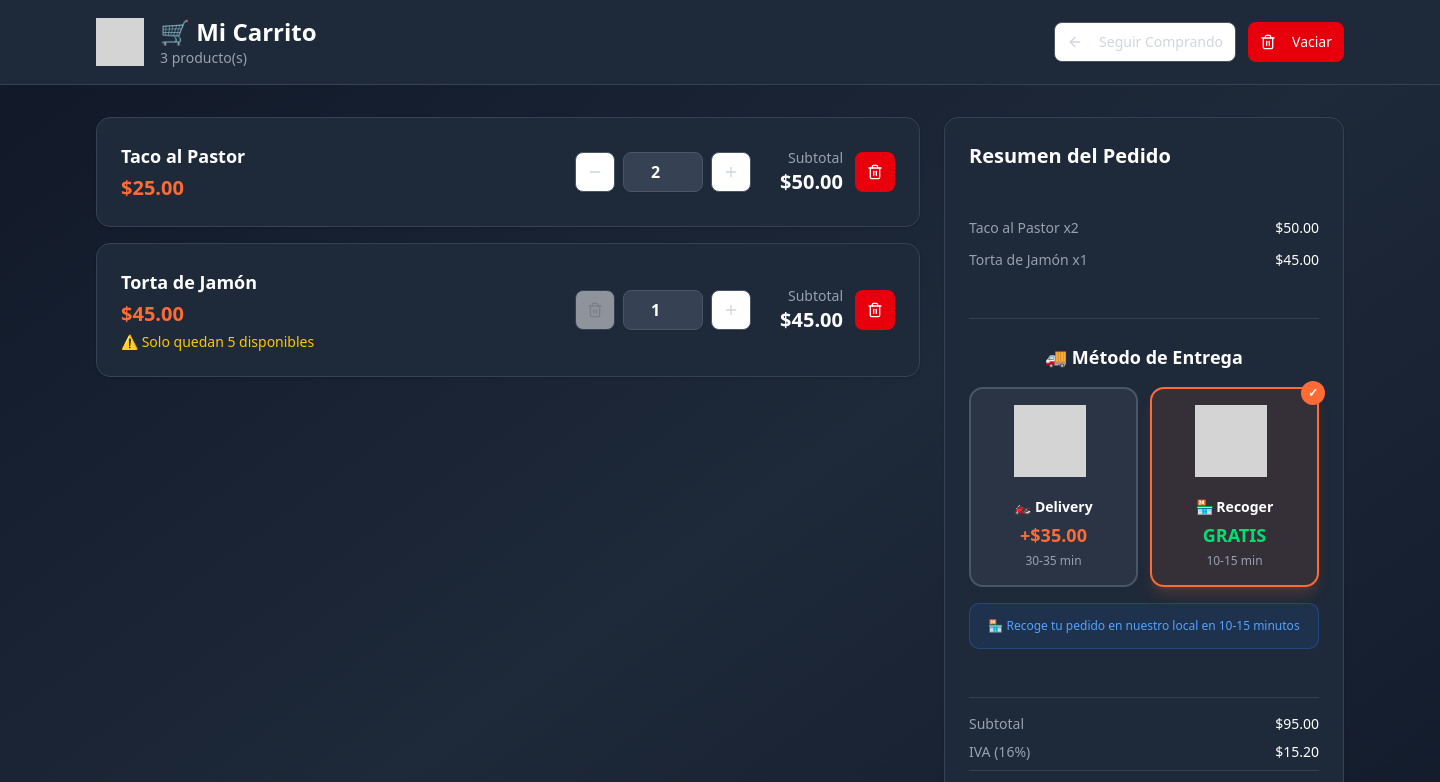
Scenario: CartPage Component › Remove Items › should clear all items when "Vaciar" clicked
Check: the heading "Taco al Pastor" is shown, box [121,144,245,168]
Click the button "Vaciar".
click(1296, 42)  # box [1248,22,1344,62]
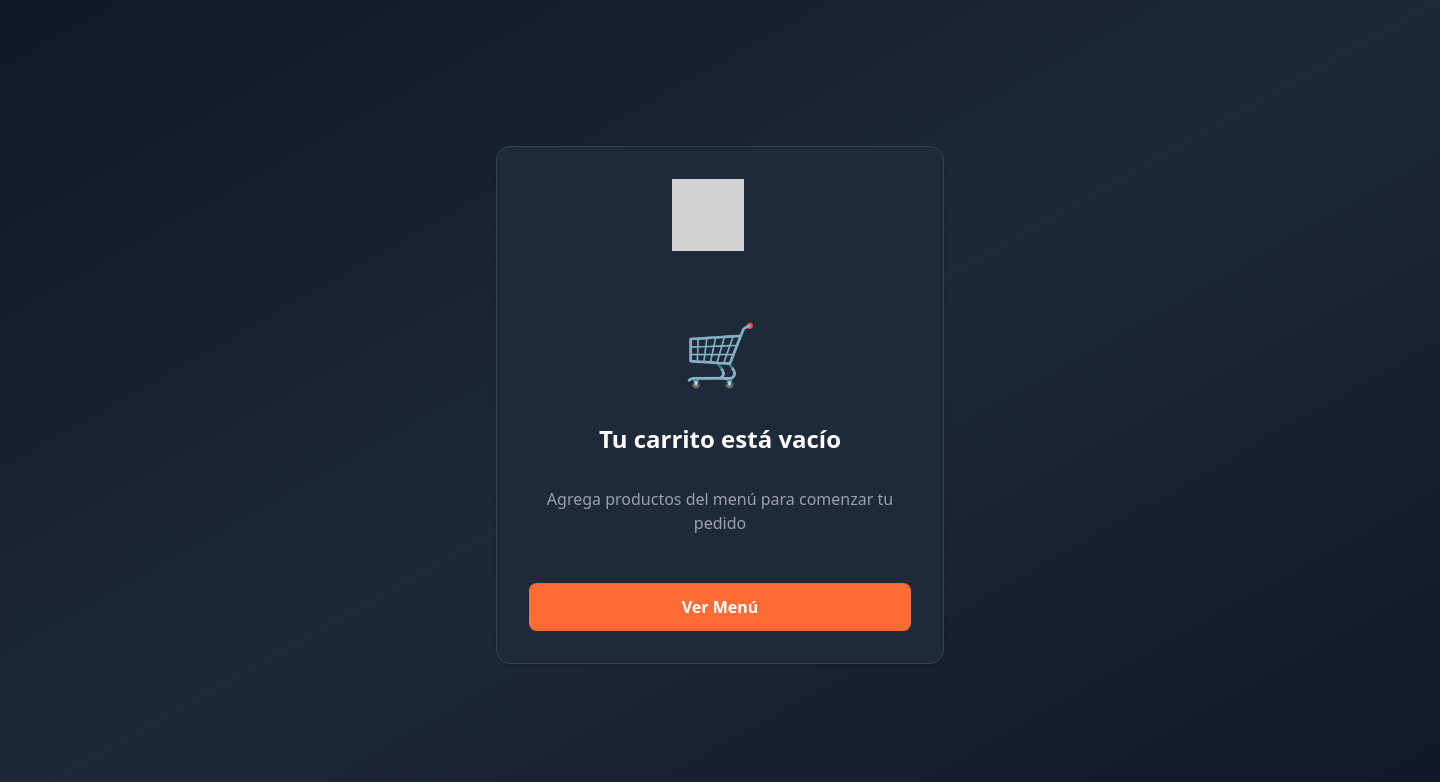
Check: the heading "Tu carrito está vacío" is shown, box [599,422,841,455]
